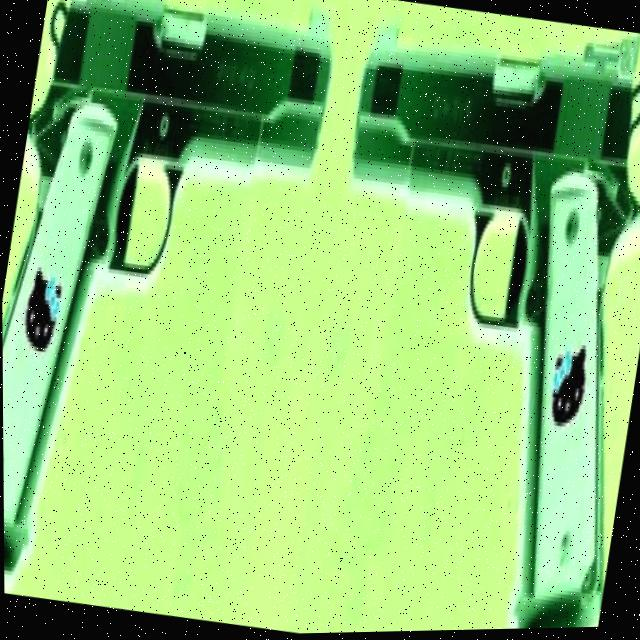pistol: (275, 8, 640, 635), (0, 0, 345, 616)
